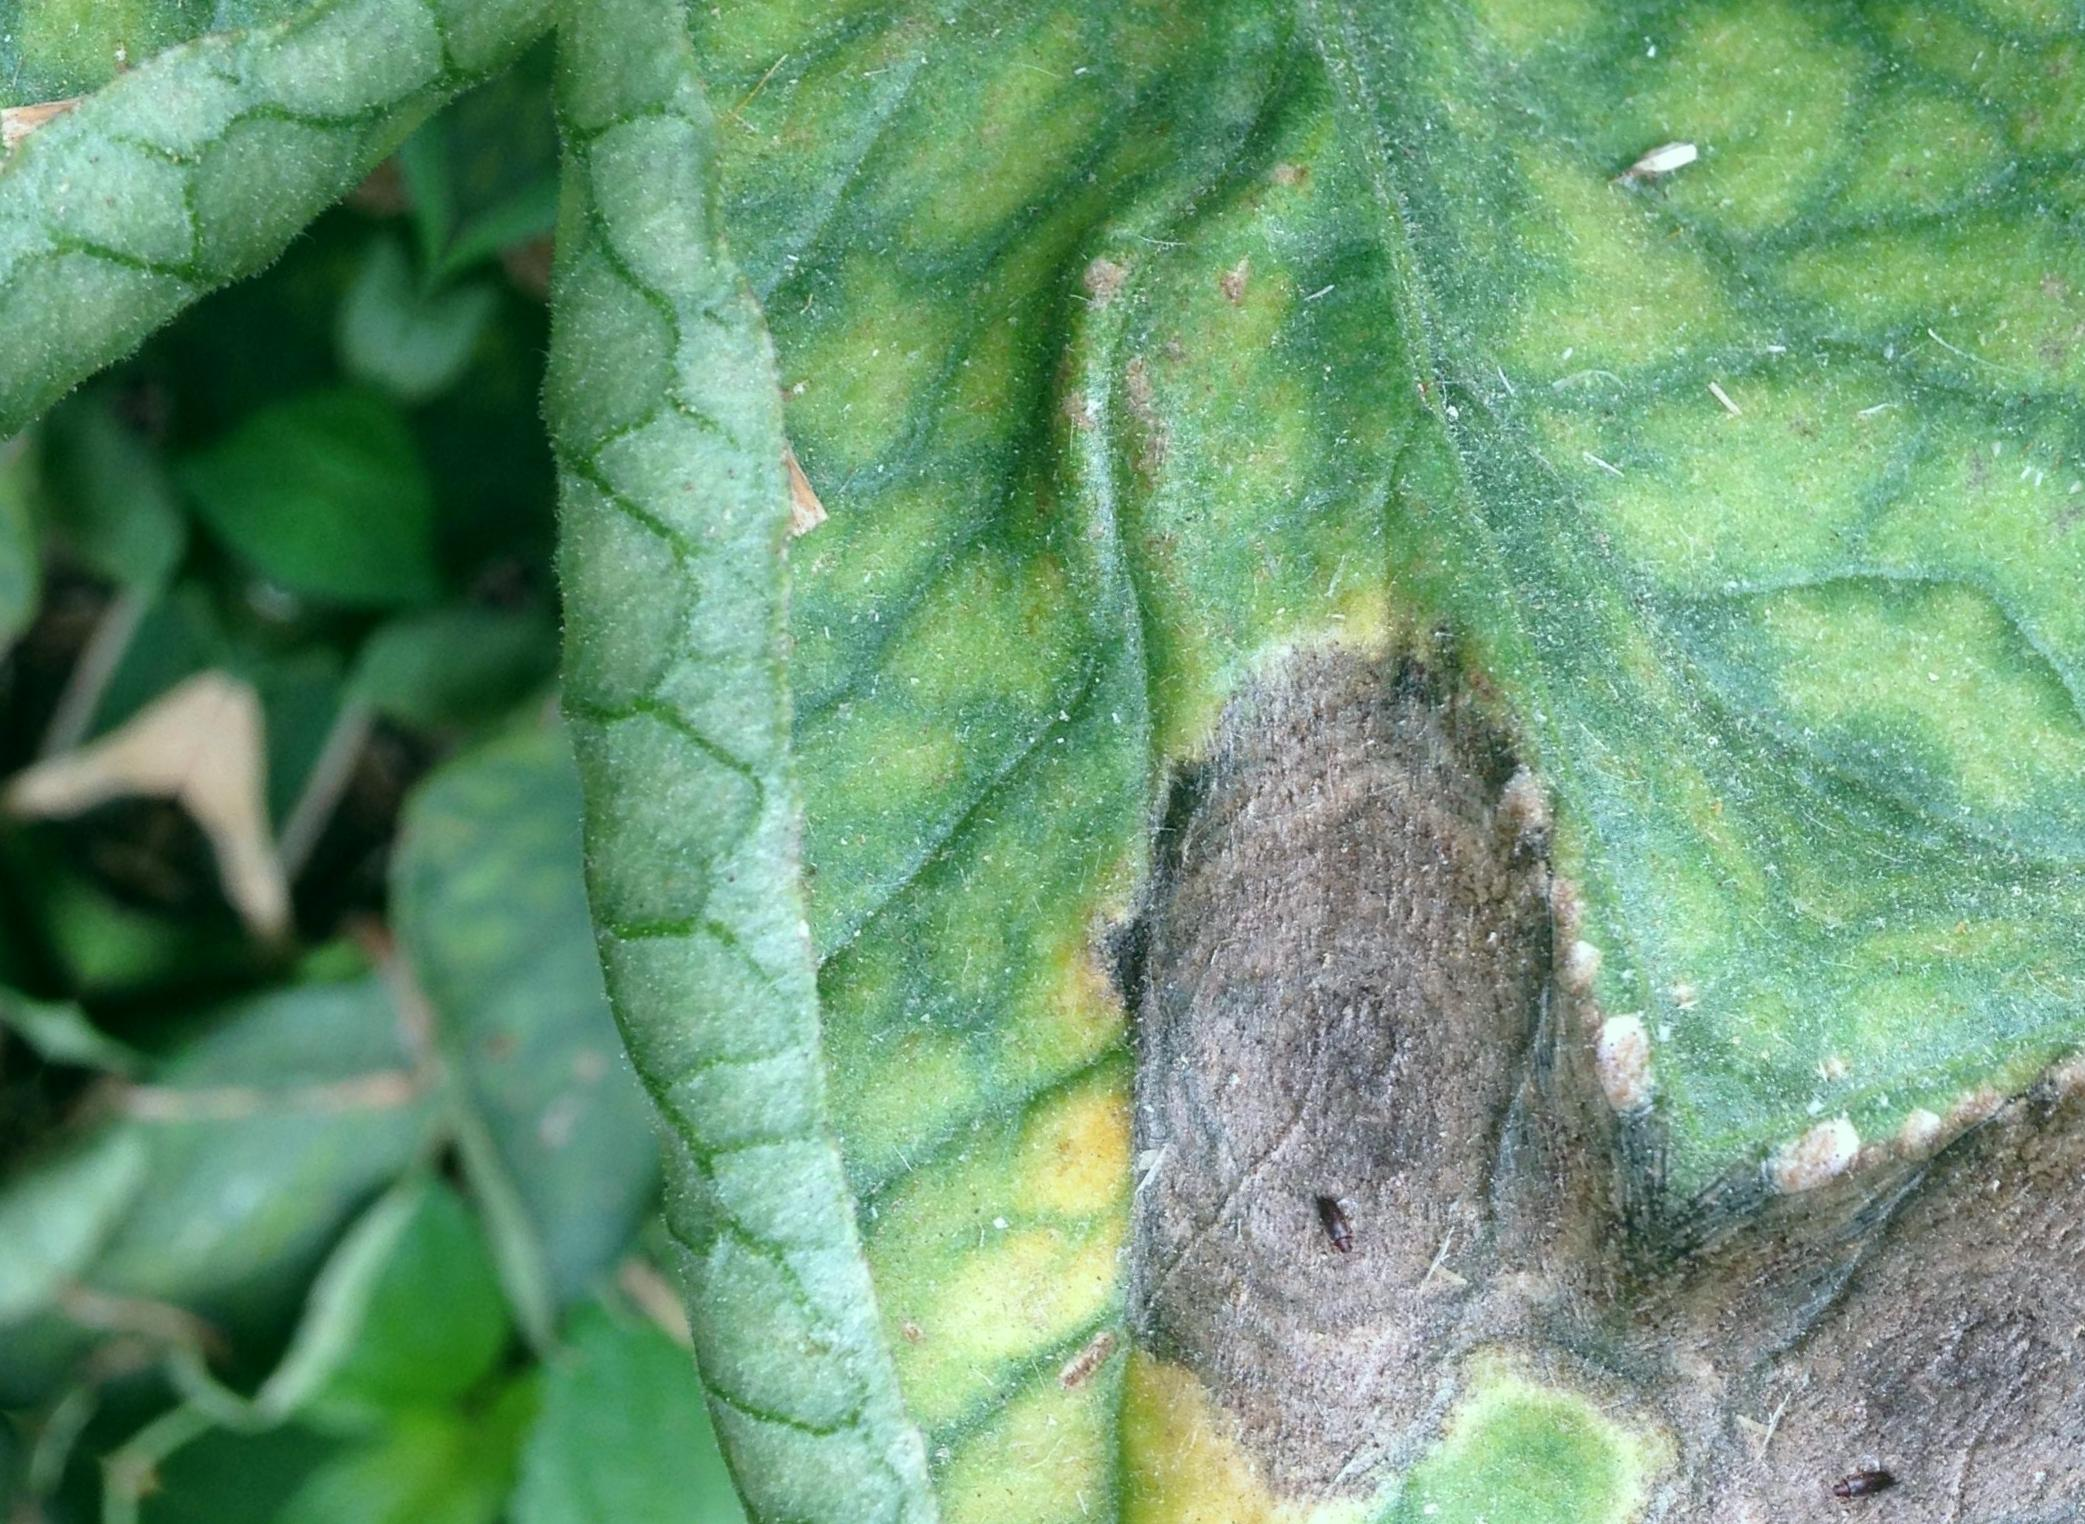Tomato Early blight leaf: (793, 270, 1983, 1524)
